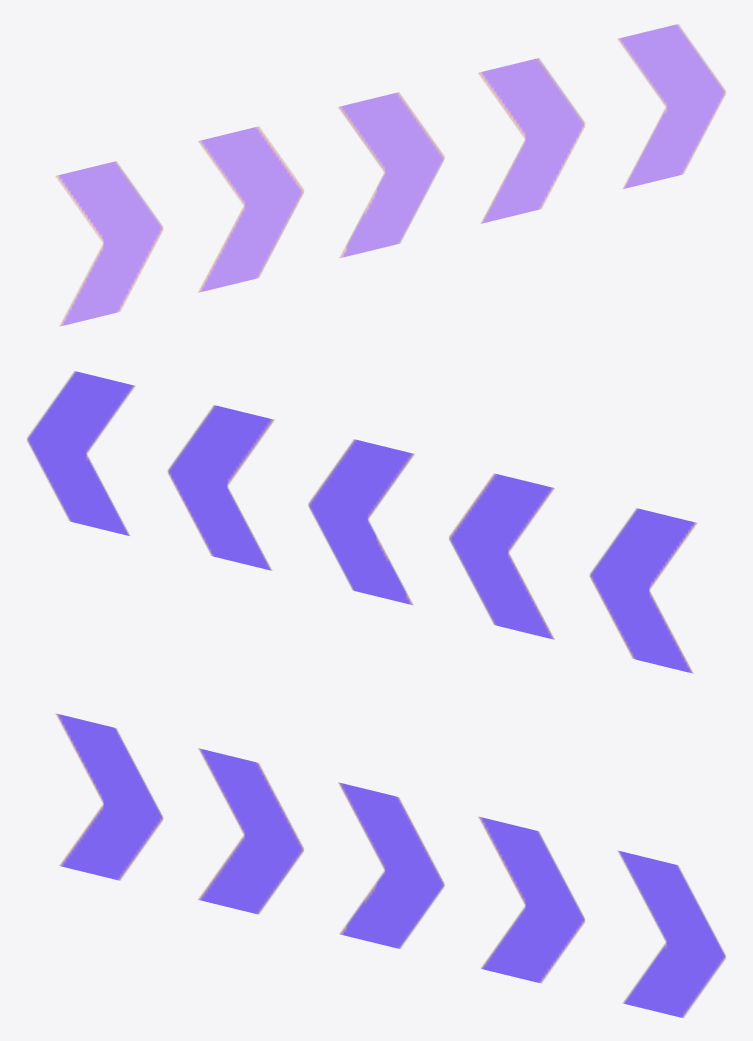
The model's file is rr_blue_arrow.glb.
3 renders of one model, top to bottom at view 1: azimuth 30°, elevation 25°; view 2: azimuth 150°, elevation 25°; view 3: azimuth 330°, elevation 25°, orthographic.
Visible parts, largest first — view 1: Emissive Arrow Sign_0_1; view 2: Emissive Arrow Sign_0_1; view 3: Emissive Arrow Sign_0_1.
Boxes of the visible parts, bbox=[...] form: Emissive Arrow Sign_0_1: bbox=[55, 24, 725, 326]; Emissive Arrow Sign_0_1: bbox=[27, 371, 697, 673]; Emissive Arrow Sign_0_1: bbox=[56, 713, 725, 1017].
Bounding box in the file's own units: 10 × 2 × 1.15e-06.
Materials: 1 (1 with a texture image).
